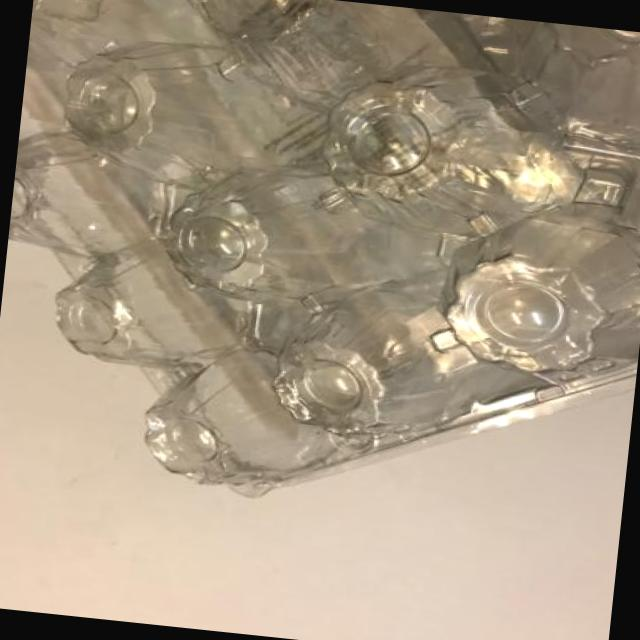plastic: (15, 0, 640, 466)
